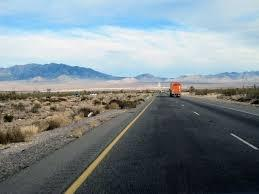field: (1, 93, 143, 142)
road: (77, 97, 258, 192), (0, 125, 119, 192)
